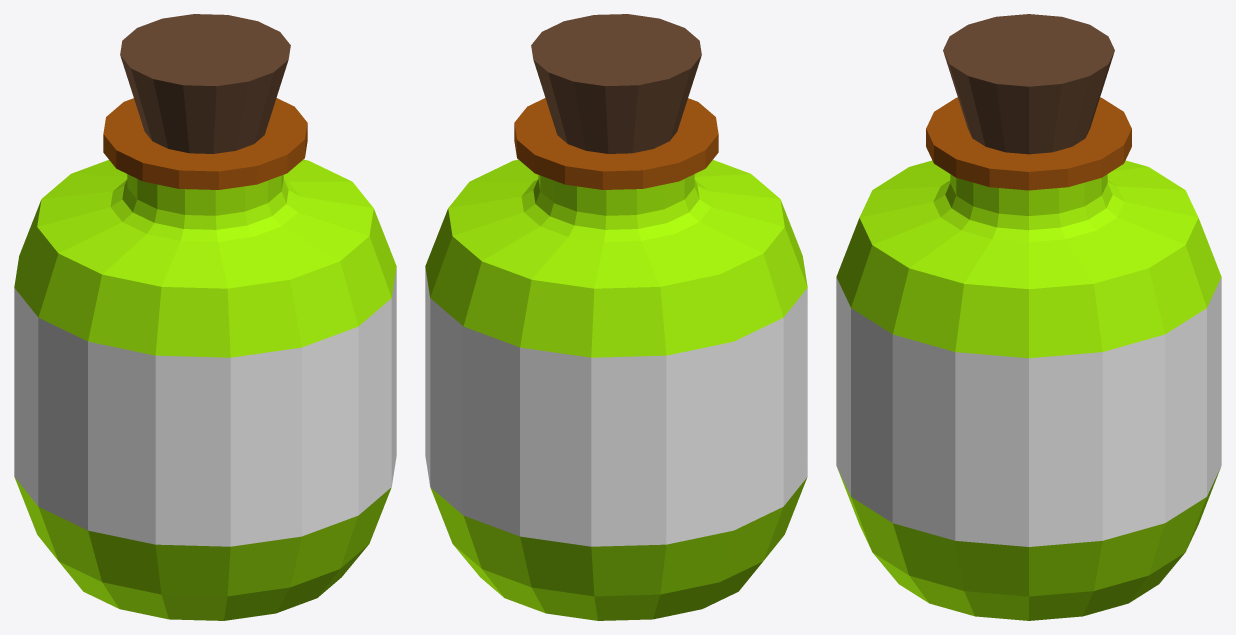
Rendered from ampulky.fbx.
The picture shows the model from 3 angles, left to right: view 1: azimuth 30°, elevation 25°; view 2: azimuth 150°, elevation 25°; view 3: azimuth 270°, elevation 25°; orthographic projection.
Visible parts, largest first — view 1: ampulky; view 2: ampulky; view 3: ampulky.
Part boxes in pixels (x1,y1,x2,y2): ampulky: (14,14,396,620); ampulky: (425,14,807,620); ampulky: (836,14,1221,620).
Size of the model in its own units: 11.36 by 16.63 by 11.36.
